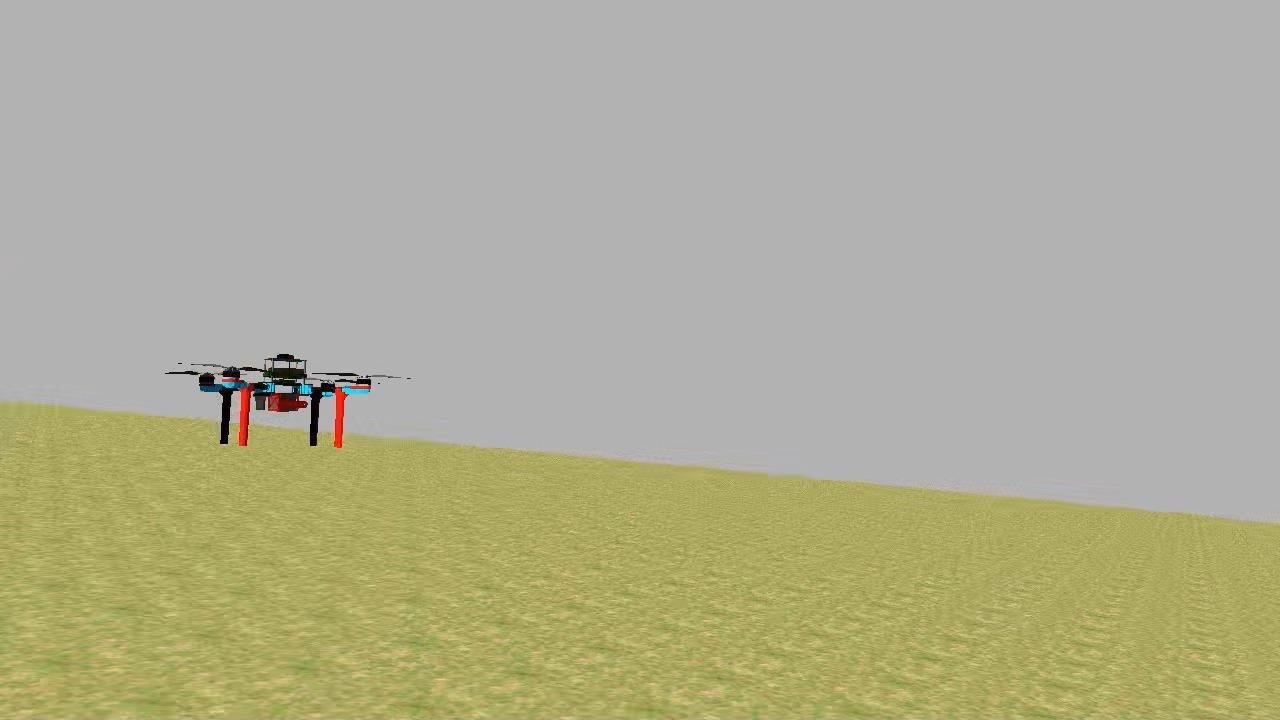UAV: (192, 346, 376, 448)
